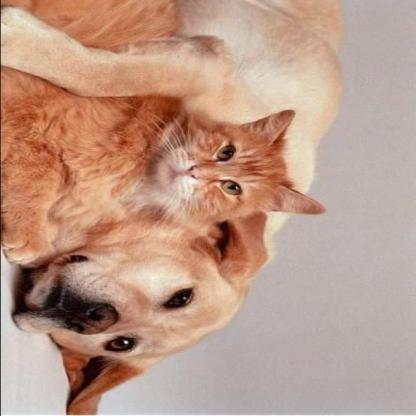cat: (146, 93, 316, 226)
dog: (8, 214, 265, 392)
